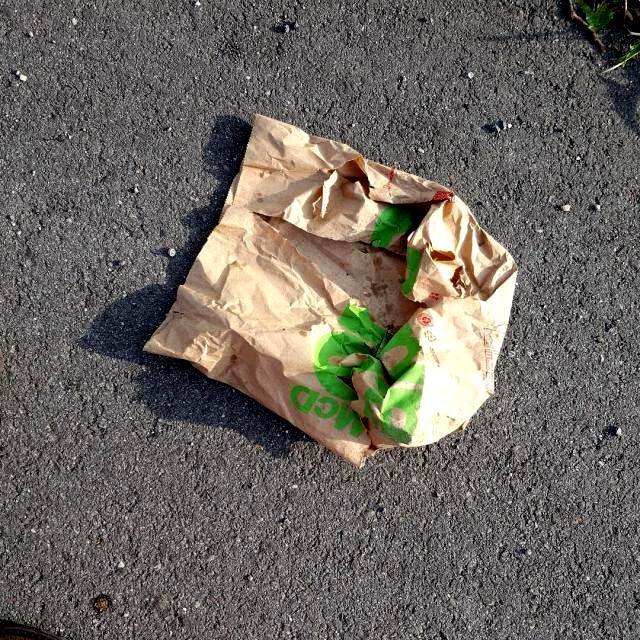Paper: (138, 110, 520, 466)
